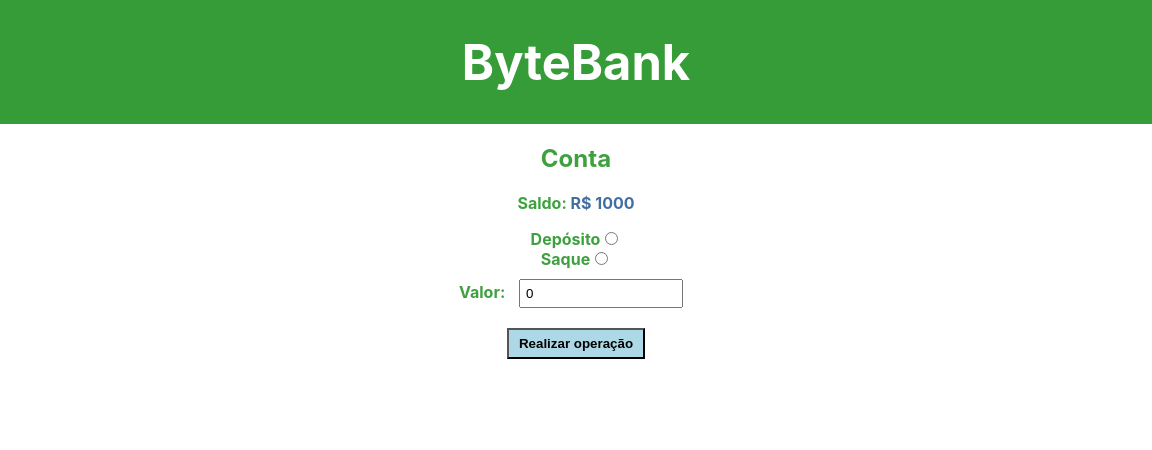
it: Componente principal › Quando realizo uma transação › Sendo um depósito, a transação deve ser realizada
expect the text "R$ 1000" is shown: met, box [570,193,634,213]
Click the radio button labelled "Depósito". click: [612, 239]
box: [605,232,618,245]
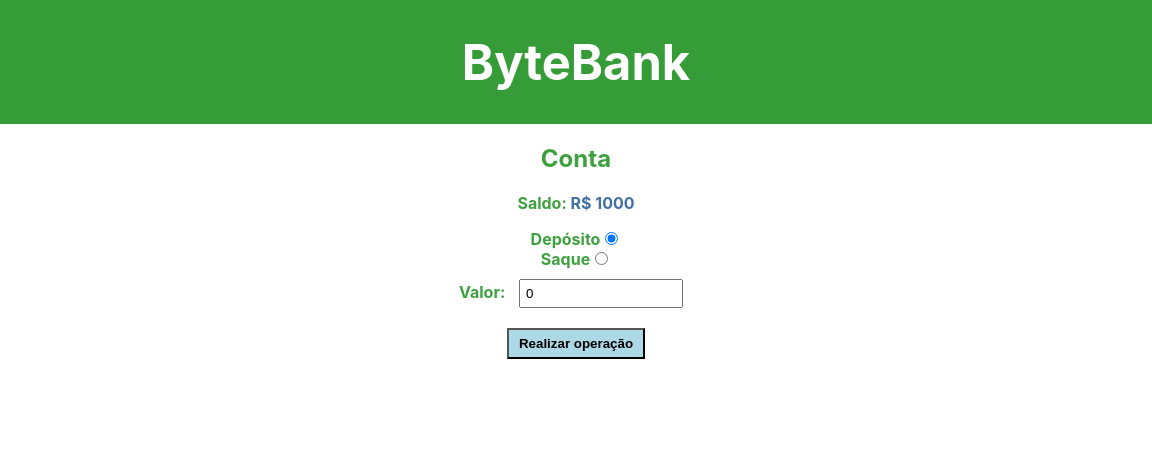
Replace the text in the field with test id "valor" with "10". click: [601, 294]
box: [519,279,683,308]
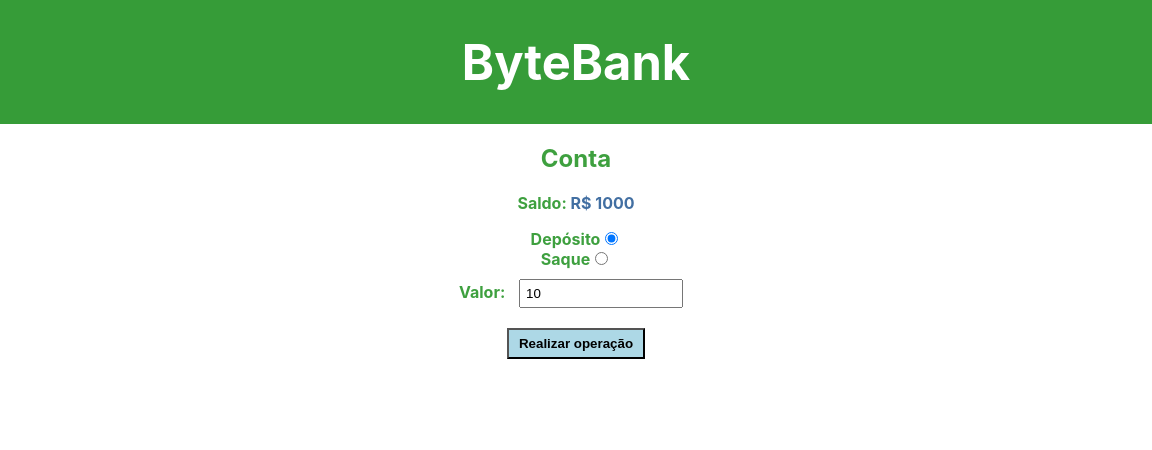
Click the button "Realizar operação". click: [576, 344]
box: [507,328,645,359]
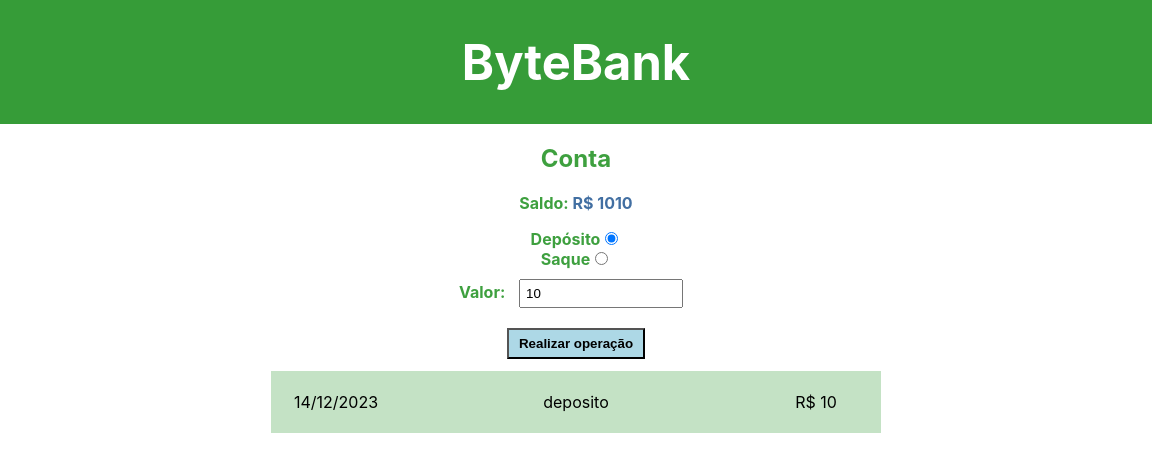
expect the text "R$ 1000" reads "R$ 1010": met, box [572,193,633,213]
